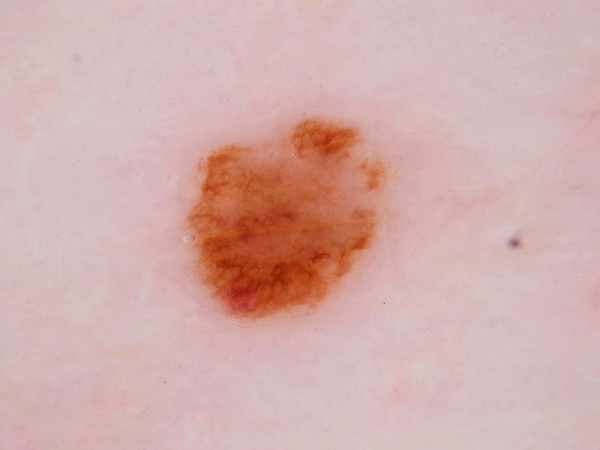Detected Lesion: (178, 116, 391, 325)
